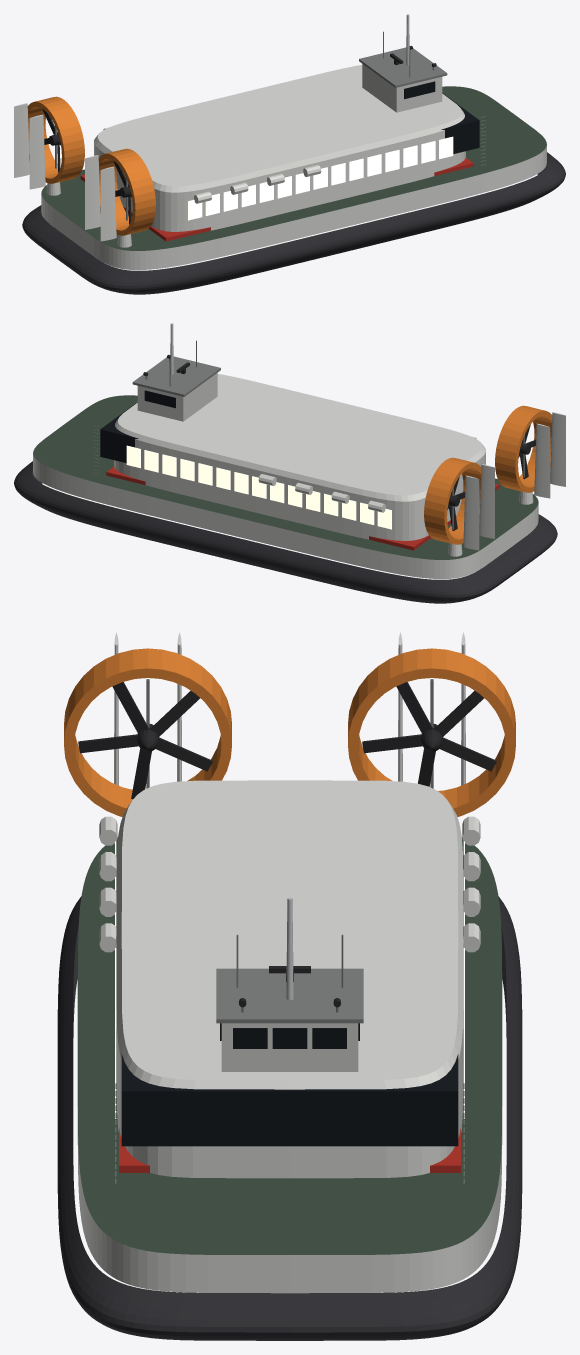
Rendered from hover40.glb.
The picture shows the model from 3 angles, top to bottom: view 1: azimuth 30°, elevation 25°; view 2: azimuth 150°, elevation 25°; view 3: azimuth 270°, elevation 25°; orthographic projection. The views are drawn at different scales.
Parts seen in each view (by area): view 1: hover40; view 2: hover40; view 3: hover40.
Part boxes in pixels (x1=…): hover40: x1=14, y1=14, x2=565, y2=294; hover40: x1=14, y1=323, x2=565, y2=603; hover40: x1=57, y1=632, x2=522, y2=1340.
Bounding box in the file's own units: 41.6 × 14.18 × 17.68.
